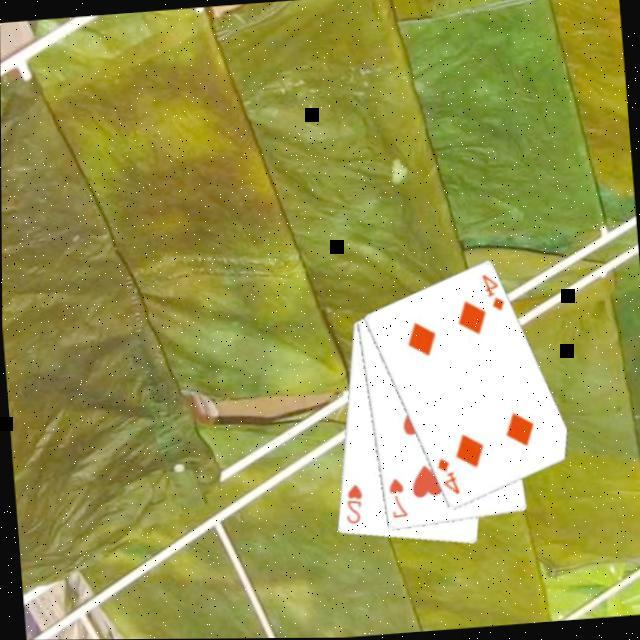2H: (341, 481, 368, 529)
4D: (434, 454, 463, 500), (479, 270, 508, 316)
7H: (386, 475, 411, 522)
